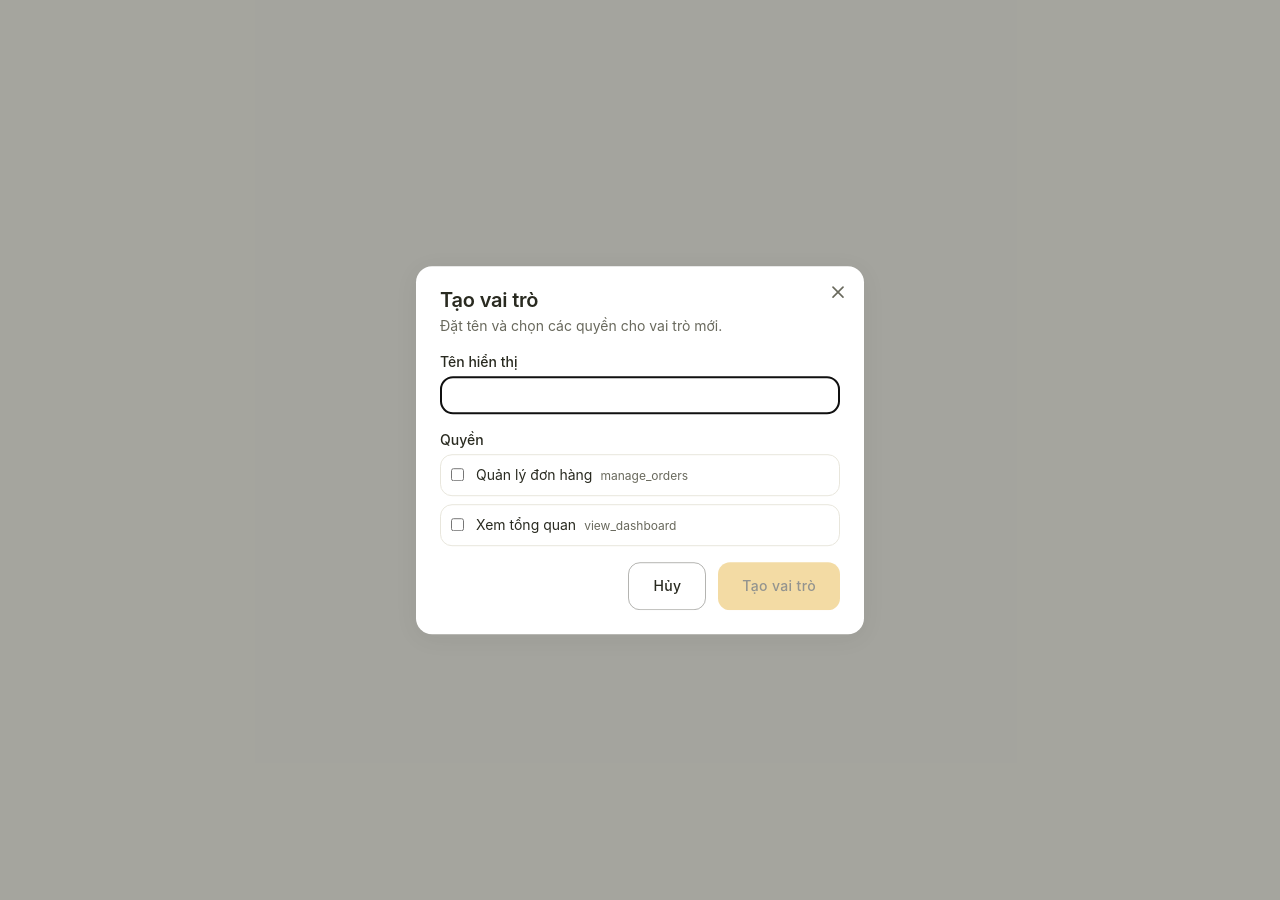
Test: RoleFormDialog › maps duplicate-name validation to the name field and focuses it
Type "Nhân viên kho" into the field labelled "Tên hiển thị" at (640, 395), box [440,376,840,414]
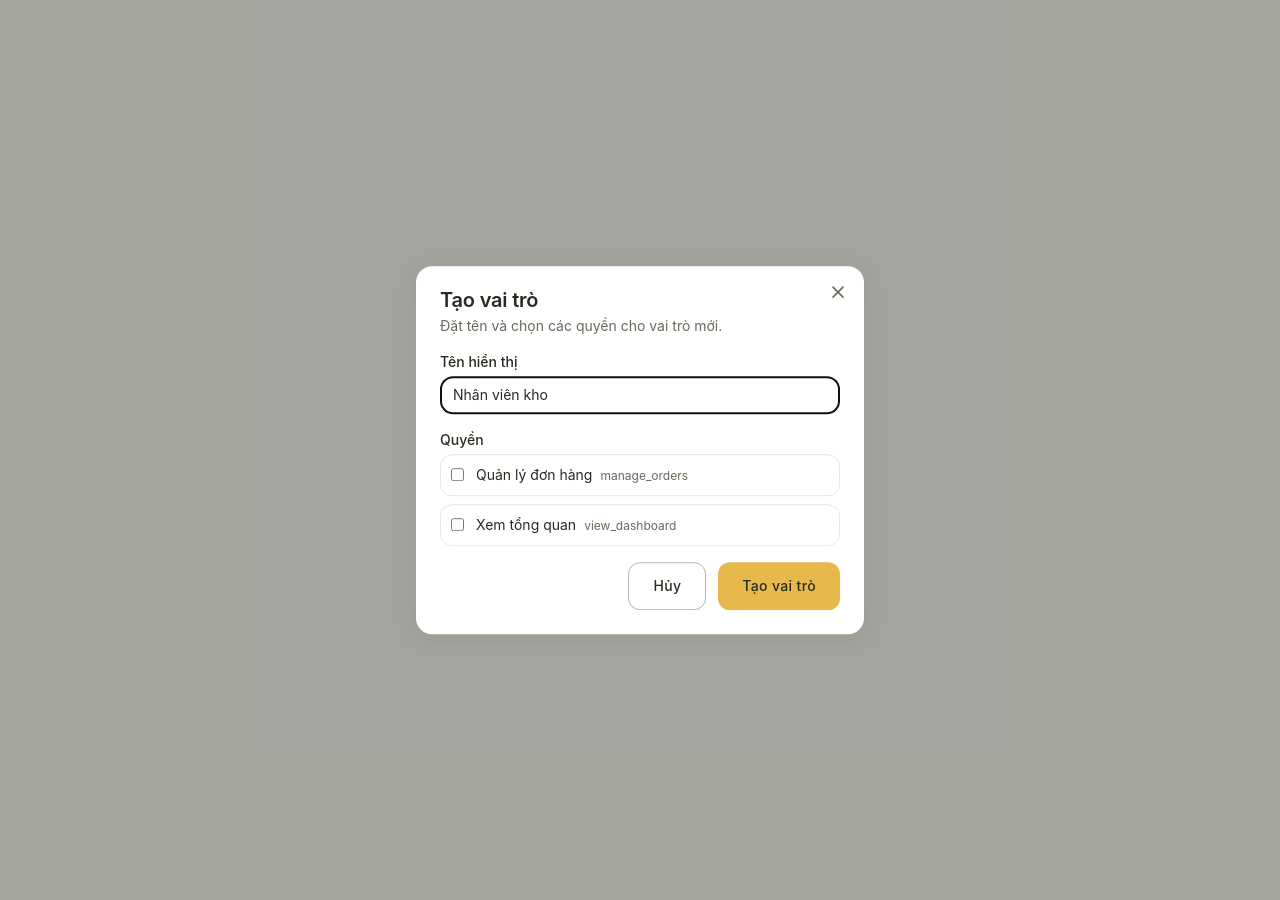
Click the button "Tạo vai trò" at (779, 586), box [718,562,840,610]
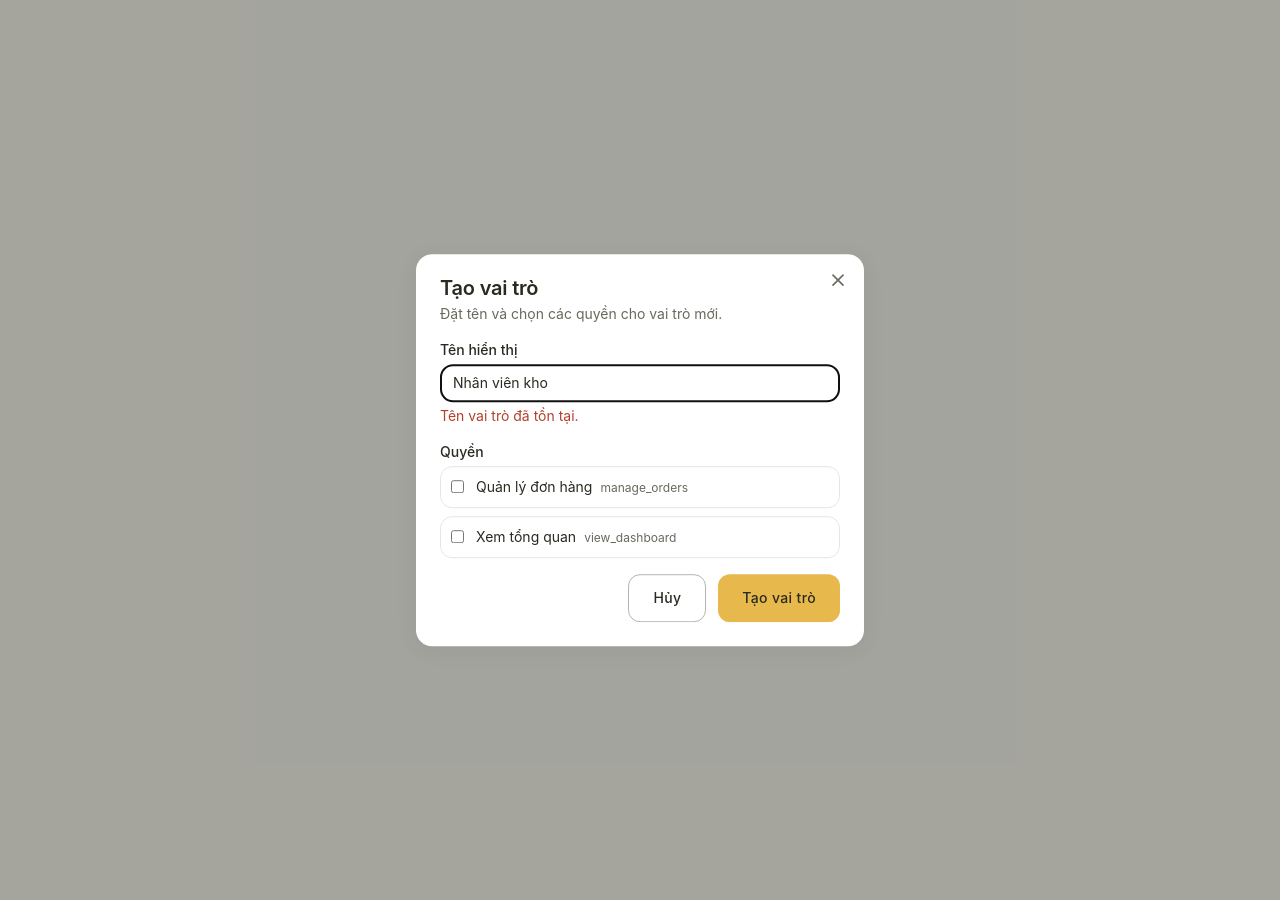
Result: the text "Tên vai trò đã tồn tại." is shown at [440,407,579,424]
